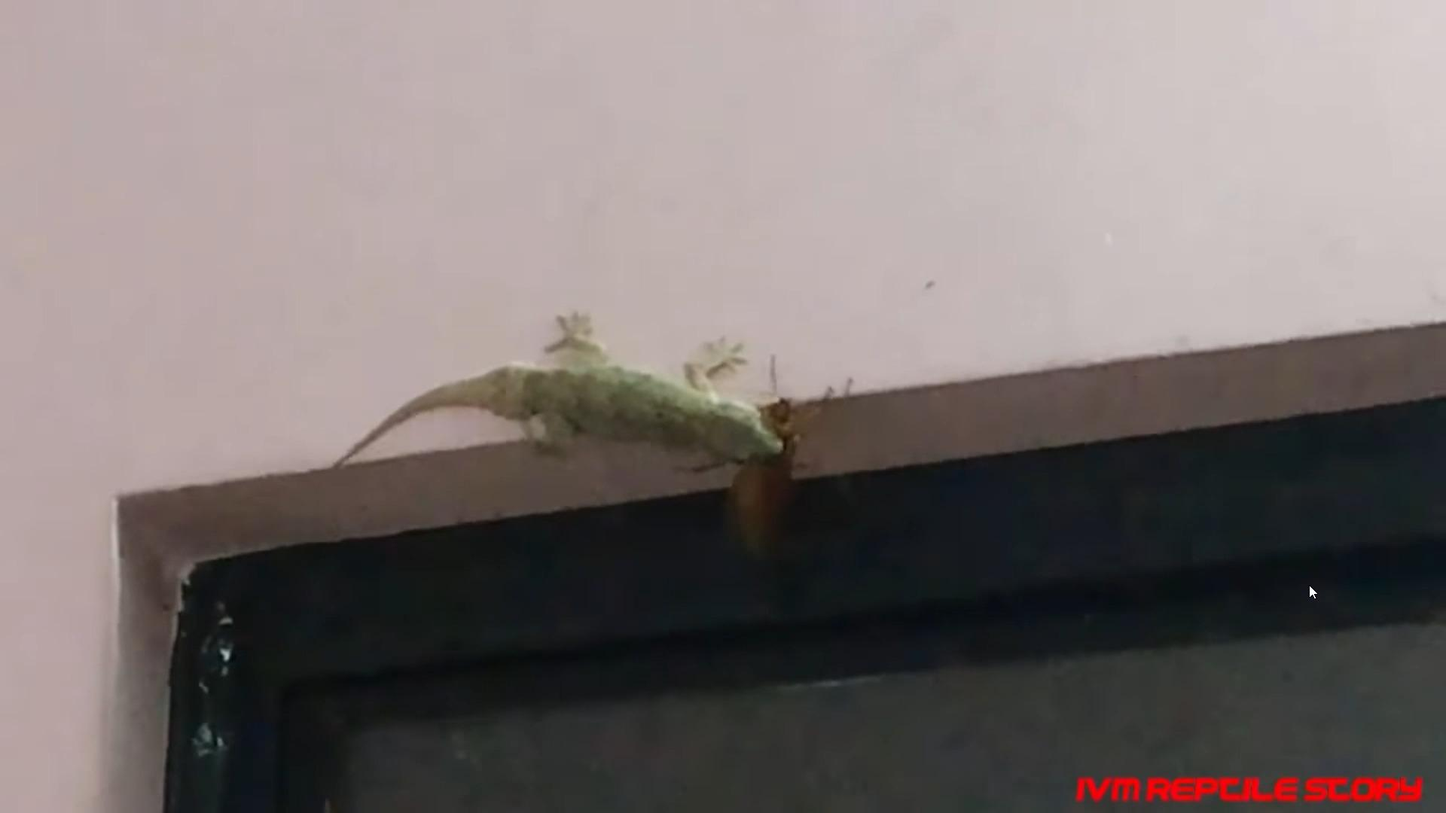cockroach: (746, 410, 814, 549)
lizard: (317, 297, 782, 491)
